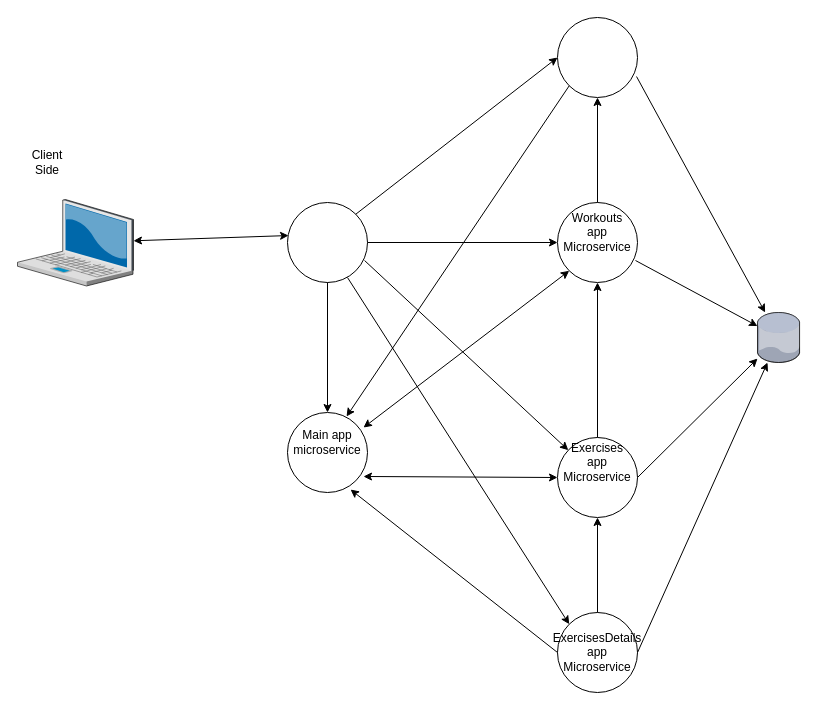
The diagram is 817 pixels wide and 710 high, and some of its shapes have lost their labels. Each missing label, with the box of its shape:
Users app Microservice: (556, 16, 638, 98)
workout_api project app: (286, 202, 368, 282)
